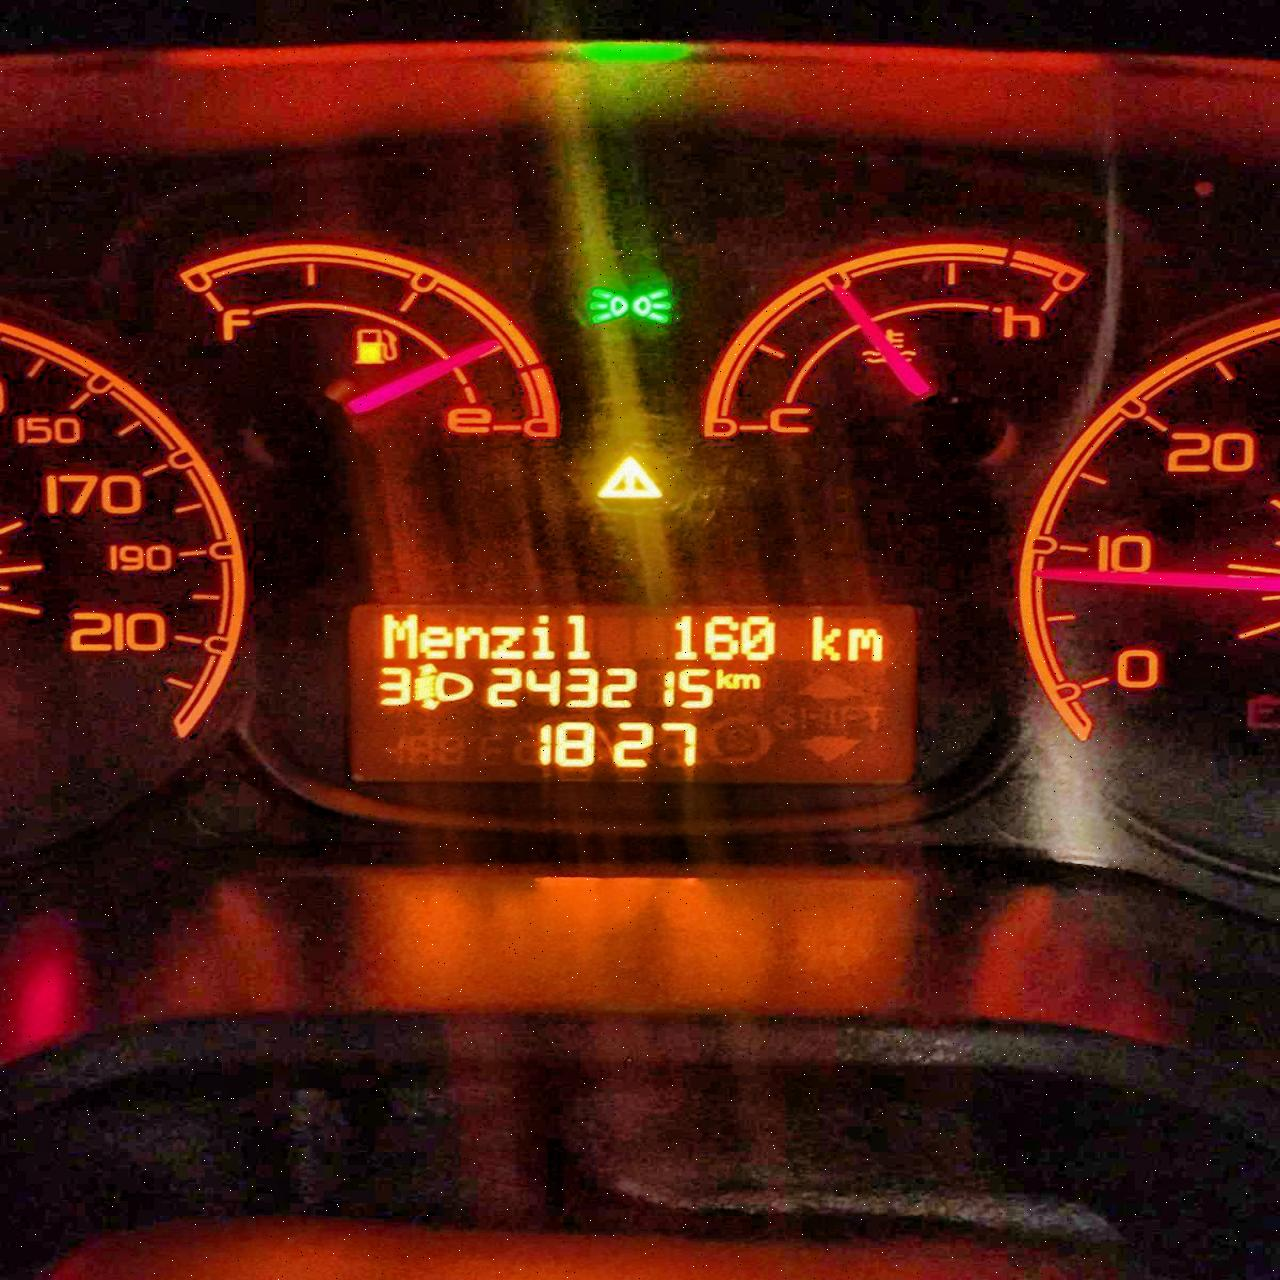0: (738, 613, 775, 663)
1: (670, 614, 701, 660), (535, 720, 551, 769), (658, 666, 674, 709)
2: (612, 717, 655, 769), (483, 663, 522, 709), (601, 665, 640, 710)
3: (376, 663, 413, 707), (565, 665, 599, 709)
4: (524, 667, 563, 709)
5: (679, 666, 712, 710)
6: (703, 613, 741, 660)
7: (660, 720, 701, 769)
8: (554, 719, 598, 768)
X: (380, 610, 420, 660), (812, 613, 846, 663), (561, 610, 592, 660), (490, 622, 527, 662), (530, 612, 559, 659), (849, 626, 885, 663), (452, 624, 489, 661), (418, 621, 452, 660), (730, 670, 762, 690), (713, 667, 734, 690)
odometer: (346, 601, 922, 784)
